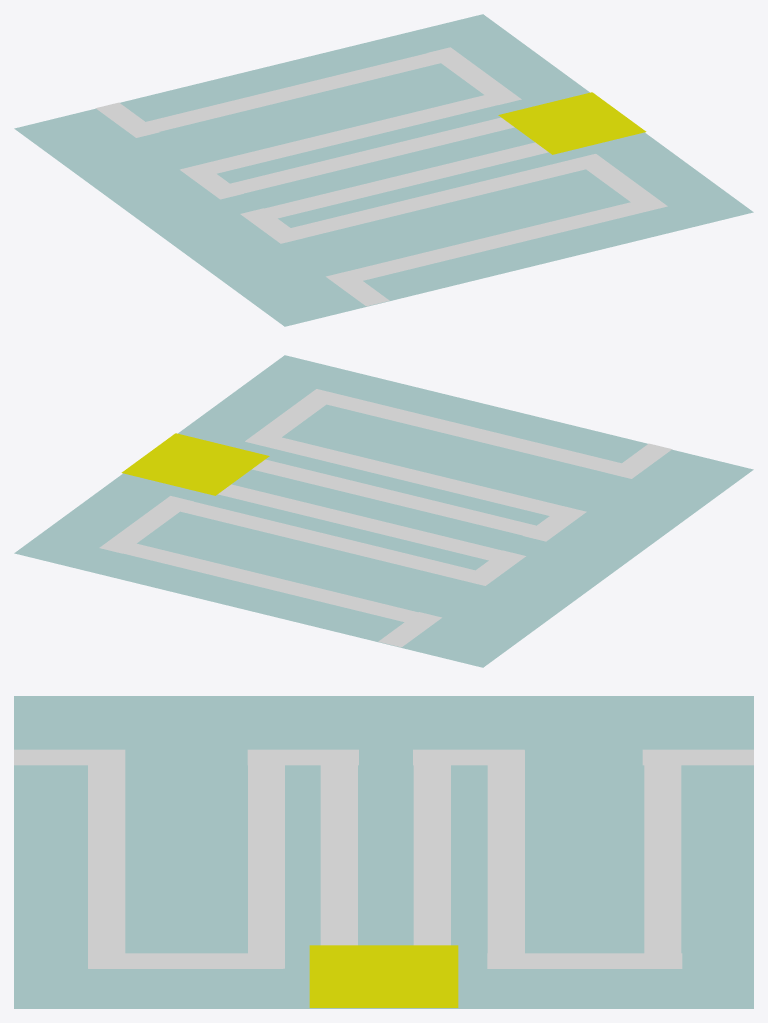
The model's file is mapzeus.fbx.
3 renders of one model, top to bottom at view 1: azimuth 30°, elevation 25°; view 2: azimuth 150°, elevation 25°; view 3: azimuth 270°, elevation 25°, orthographic. The views are drawn at different scales.
Parts seen in each view (by area): view 1: pPlane1, pPlane2, pPlane5, pPlane8, pPlane6, pPlane10, pPlane14, pPlane13, pPlane9, pPlane7, pPlane3, pPlane4 (+2 smaller); view 2: pPlane1, pPlane2, pPlane10, pPlane5, pPlane8, pPlane6, pPlane14, pPlane13, pPlane7, pPlane9, pPlane3, pPlane4 (+2 smaller); view 3: pPlane1, pPlane2, pPlane6, pPlane5, pPlane10, pPlane8, pPlane14, pPlane13, pPlane9, pPlane7, pPlane4, pPlane3 (+2 smaller).
Boxes of the visible parts, <box> form: pPlane1: <box>14,14,753,326</box>; pPlane2: <box>498,92,646,154</box>; pPlane5: <box>123,47,463,135</box>; pPlane8: <box>269,154,606,243</box>; pPlane6: <box>327,197,667,286</box>; pPlane10: <box>180,89,519,178</box>; pPlane14: <box>241,142,548,222</box>; pPlane13: <box>207,117,514,197</box>; pPlane9: <box>427,47,521,104</box>; pPlane7: <box>574,154,667,211</box>; pPlane3: <box>326,271,389,306</box>; pPlane4: <box>96,102,159,137</box>; pPlane1: <box>14,355,753,667</box>; pPlane2: <box>121,433,269,495</box>; pPlane10: <box>157,496,497,585</box>; pPlane5: <box>100,538,439,626</box>; pPlane8: <box>245,432,585,521</box>; pPlane6: <box>304,389,642,476</box>; pPlane14: <box>252,459,558,540</box>; pPlane13: <box>218,484,524,563</box>; pPlane7: <box>245,389,337,446</box>; pPlane9: <box>99,496,193,553</box>; pPlane3: <box>608,443,671,478</box>; pPlane4: <box>378,612,441,647</box>; pPlane1: <box>14,696,753,1008</box>; pPlane2: <box>309,945,458,1007</box>; pPlane6: <box>88,750,125,968</box>; pPlane5: <box>644,750,681,968</box>; pPlane10: <box>487,750,524,964</box>; pPlane8: <box>248,750,284,968</box>; pPlane14: <box>320,750,357,945</box>; pPlane13: <box>413,750,450,945</box>; pPlane9: <box>487,953,682,968</box>; pPlane7: <box>88,953,283,968</box>; pPlane4: <box>642,749,753,765</box>; pPlane3: <box>14,749,125,765</box>.
Bounding box in the file's own units: 99.8 × 0.2 × 99.6.
